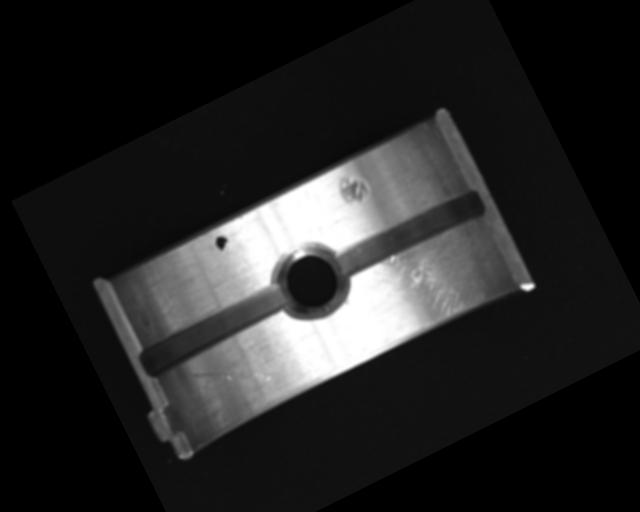blot: (212, 231, 234, 256)
bruise: (333, 166, 372, 209)
gap: (328, 183, 490, 287), (135, 281, 289, 379)
hole: (261, 232, 357, 330)
nick: (188, 341, 273, 413)
scratch: (344, 214, 510, 353)
